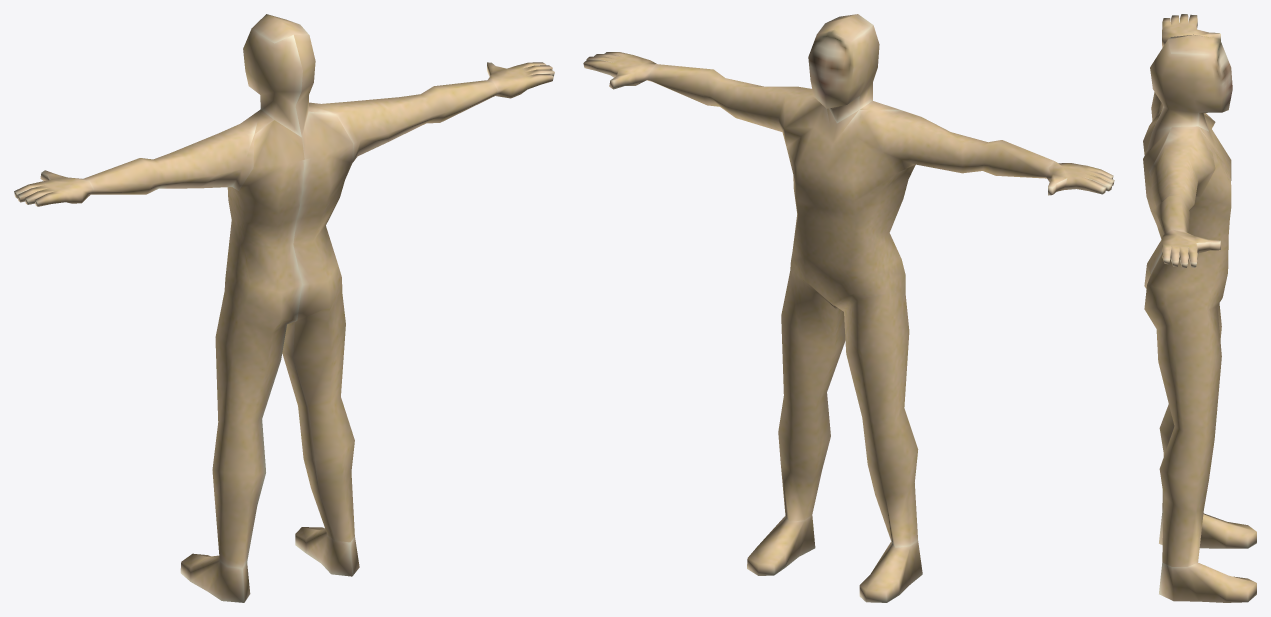
3 views of the same model, side by side, from view 1: azimuth 30°, elevation 25°; view 2: azimuth 150°, elevation 25°; view 3: azimuth 270°, elevation 25° (orthographic). The views are drawn at different scales.
Parts seen in each view (by area): view 1: human_human_None; view 2: human_human_None; view 3: human_human_None.
Boxes of the visible parts, box(x1,y1,x2,y2) form: human_human_None: box(14, 14, 554, 602); human_human_None: box(583, 14, 1114, 602); human_human_None: box(1143, 14, 1256, 602).
Size of the model in its own units: 1.87 by 1.87 by 0.3618.
